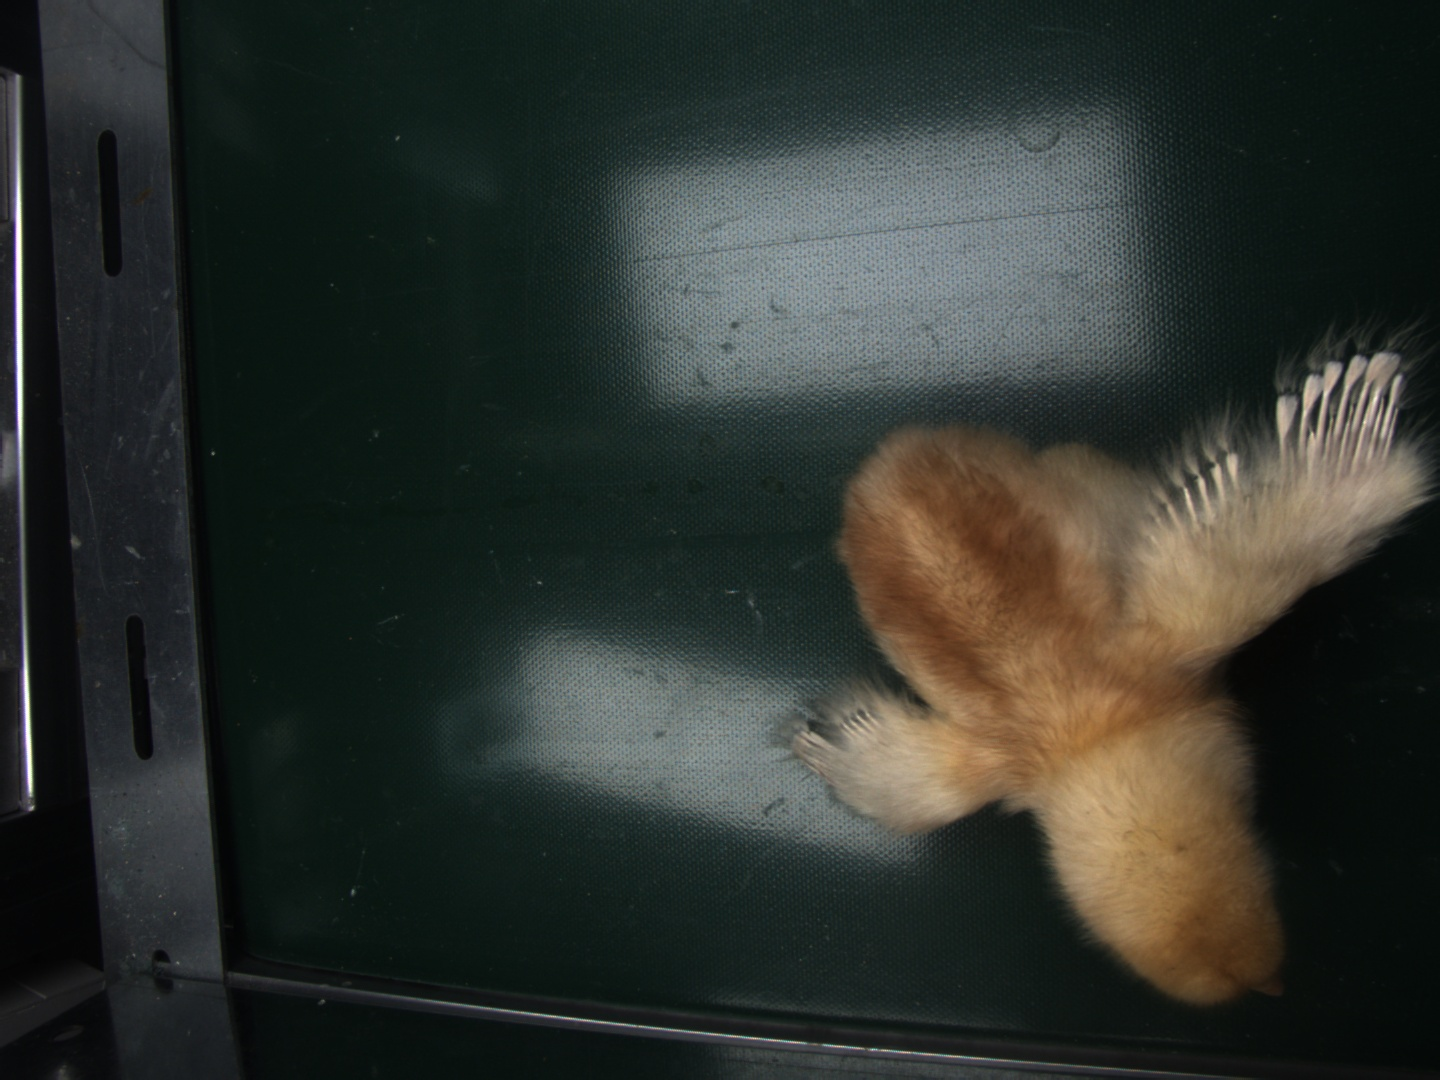female: (1287, 353, 1404, 459)
